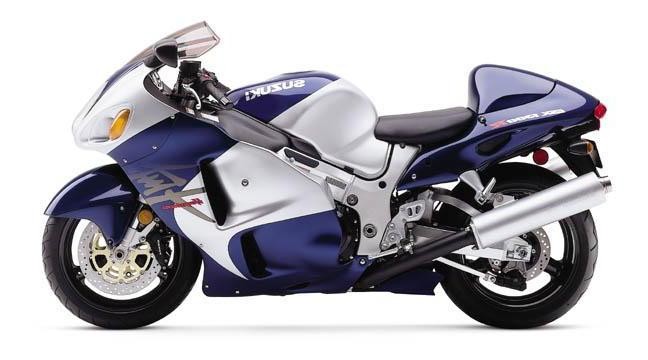motorcycle: (2, 9, 621, 341)
